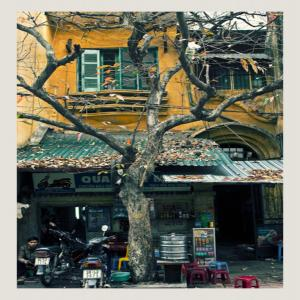Vehicle-registration-plate: (84, 272, 105, 280), (34, 257, 50, 267)
